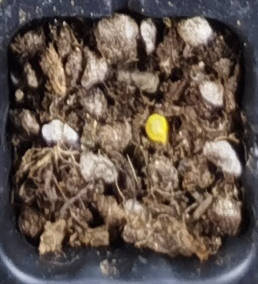pepper seed: (59, 40, 228, 185)
